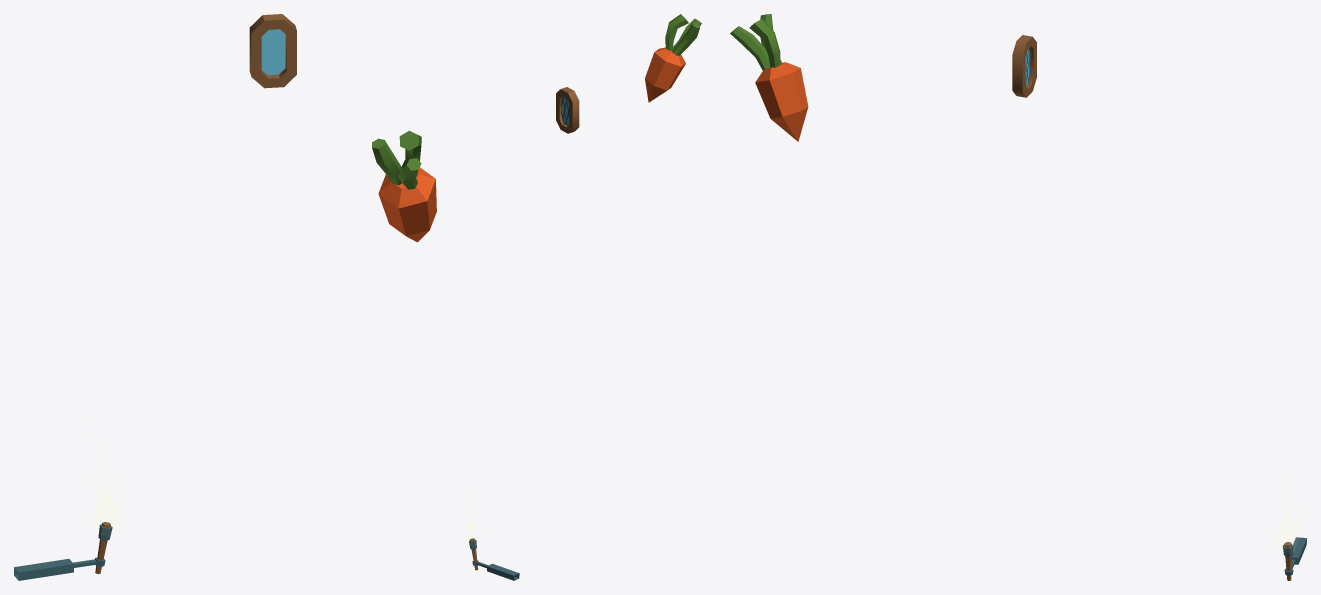
The picture shows the model from 3 angles, left to right: view 1: azimuth 30°, elevation 25°; view 2: azimuth 150°, elevation 25°; view 3: azimuth 270°, elevation 25°; orthographic projection. The views are drawn at different scales.
Visible parts, largest first — view 1: Line1479_red2_0, Plane476_brown_0, Line1479_green_0, Cylinder1709_metal_0, Plane478_mirror_0; view 2: Line1479_red2_0, Line1479_green_0, Plane476_brown_0, Cylinder1709_metal_0; view 3: Line1479_red2_0, Line1479_green_0, Plane476_brown_0.
Part boxes in pixels (x1,y1,x2,y2): Line1479_red2_0: (378, 167, 436, 242); Plane476_brown_0: (249, 14, 296, 88); Line1479_green_0: (372, 130, 421, 189); Cylinder1709_metal_0: (14, 524, 112, 580); Plane478_mirror_0: (261, 29, 285, 75); Line1479_red2_0: (645, 47, 685, 102); Line1479_green_0: (665, 14, 701, 55); Plane476_brown_0: (556, 87, 579, 133); Cylinder1709_metal_0: (469, 540, 519, 580); Line1479_red2_0: (755, 62, 808, 141); Line1479_green_0: (730, 14, 781, 70); Plane476_brown_0: (1012, 35, 1036, 97).
Bounding box in the file's own units: 183 × 1108 × 1042.
